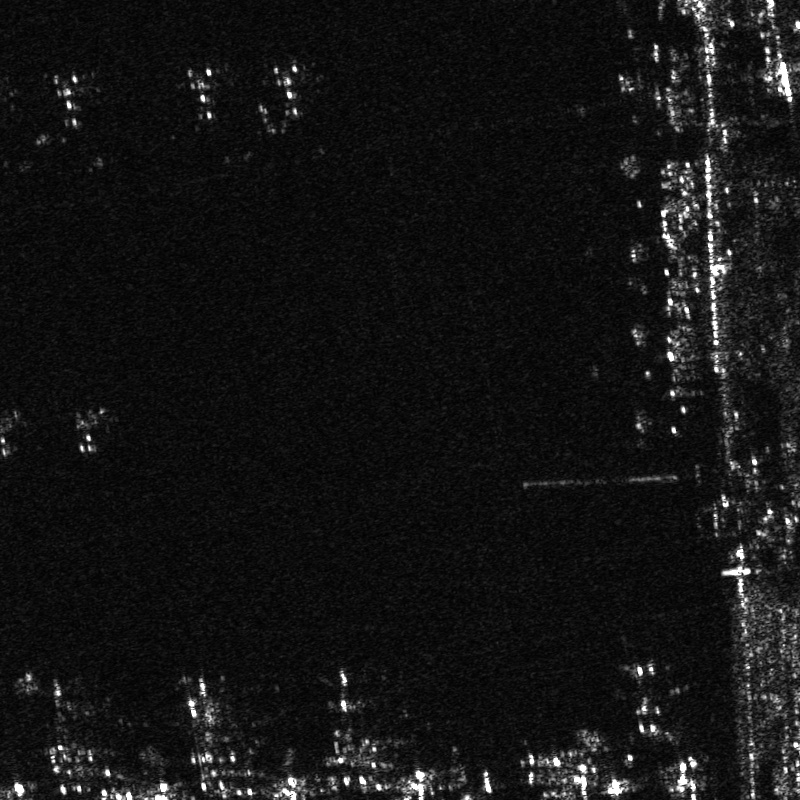A220: (605, 659, 697, 744), (172, 667, 238, 747)
A320/321: (61, 400, 115, 458)
Boeing787: (312, 664, 379, 737)
other: (252, 55, 322, 125), (38, 63, 100, 139), (24, 668, 90, 738), (175, 59, 224, 129)
